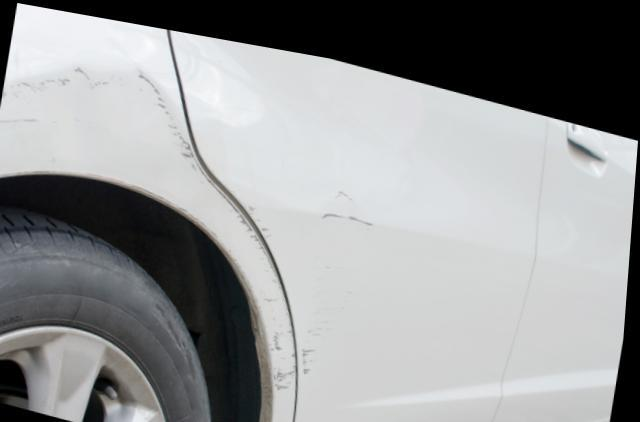scratch: (0, 61, 301, 381), (306, 172, 379, 367)
